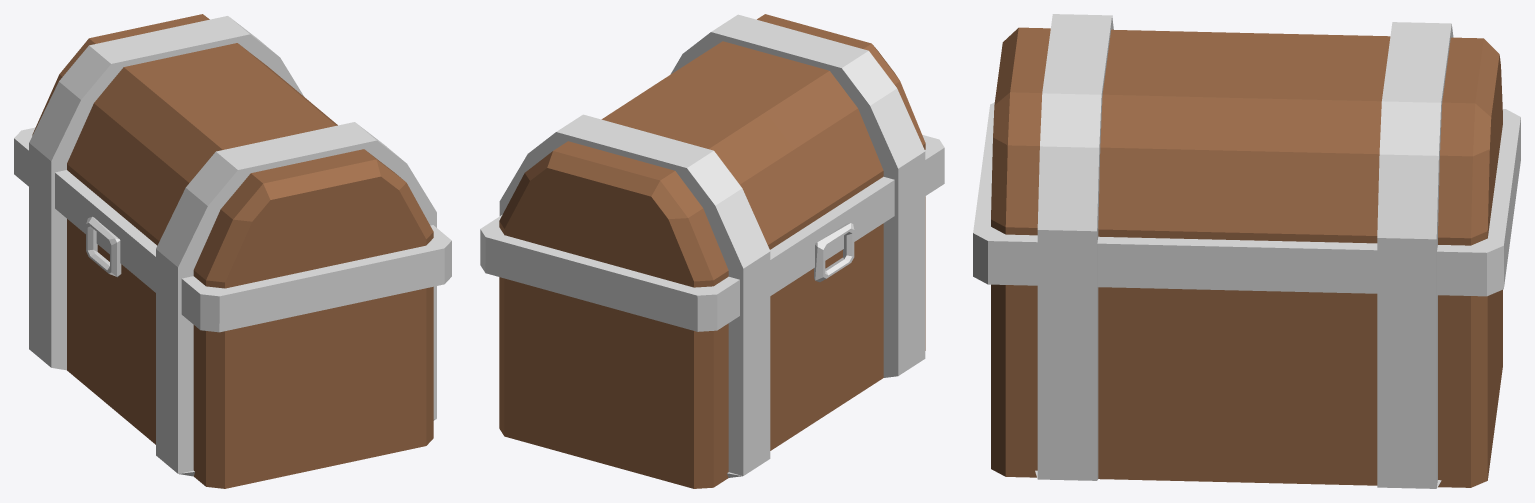
The model's file is TreasureBox.glb.
The picture shows the model from 3 angles, left to right: view 1: azimuth 30°, elevation 25°; view 2: azimuth 150°, elevation 25°; view 3: azimuth 270°, elevation 25°; orthographic projection. The views are drawn at different scales.
Parts seen in each view (by area): view 1: Box; view 2: Box; view 3: Box.
Boxes of the visible parts, x1,y1,x2,y2 form: Box: (14, 14, 451, 488); Box: (480, 14, 944, 488); Box: (973, 14, 1520, 488).
Bounding box in the file's own units: 26.9 × 28.61 × 39.58.
